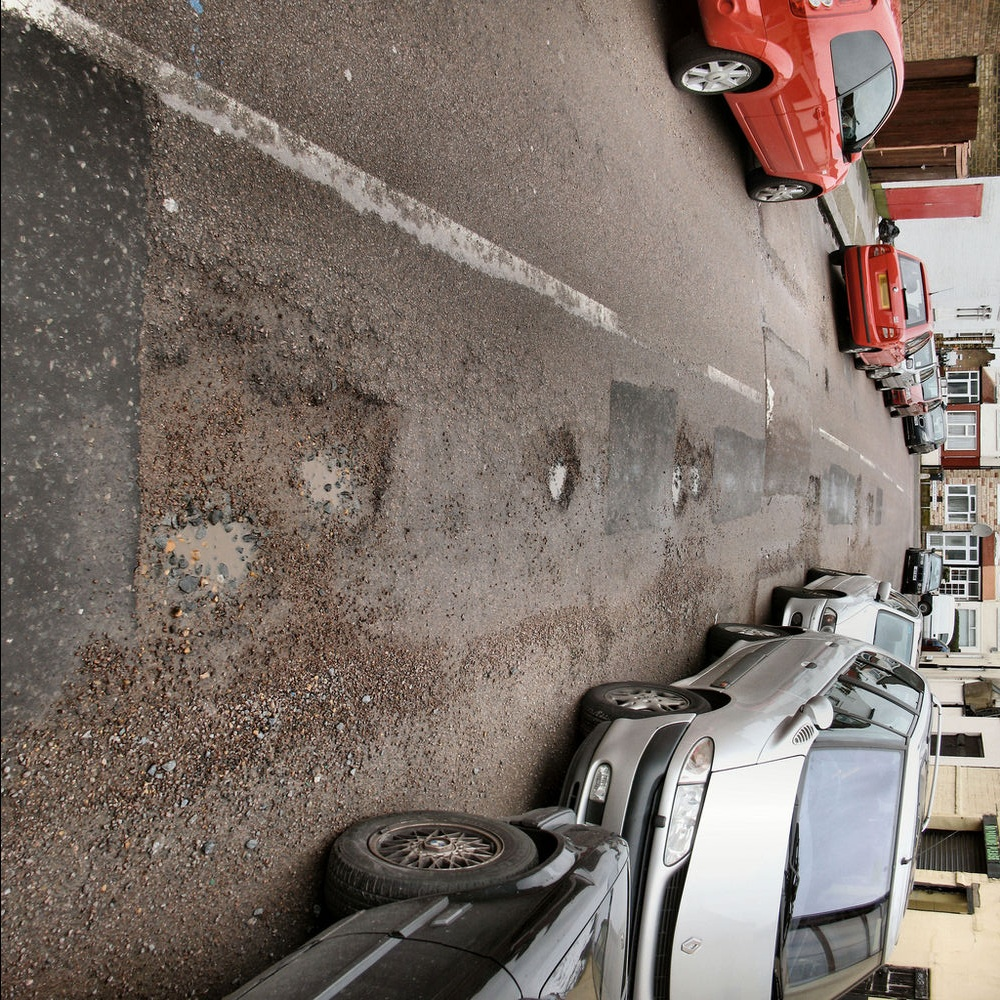pothole: (293, 393, 407, 537), (148, 516, 264, 612), (650, 443, 727, 526), (532, 439, 575, 527), (845, 479, 864, 547), (804, 474, 826, 507), (819, 368, 833, 397), (867, 496, 873, 525)
